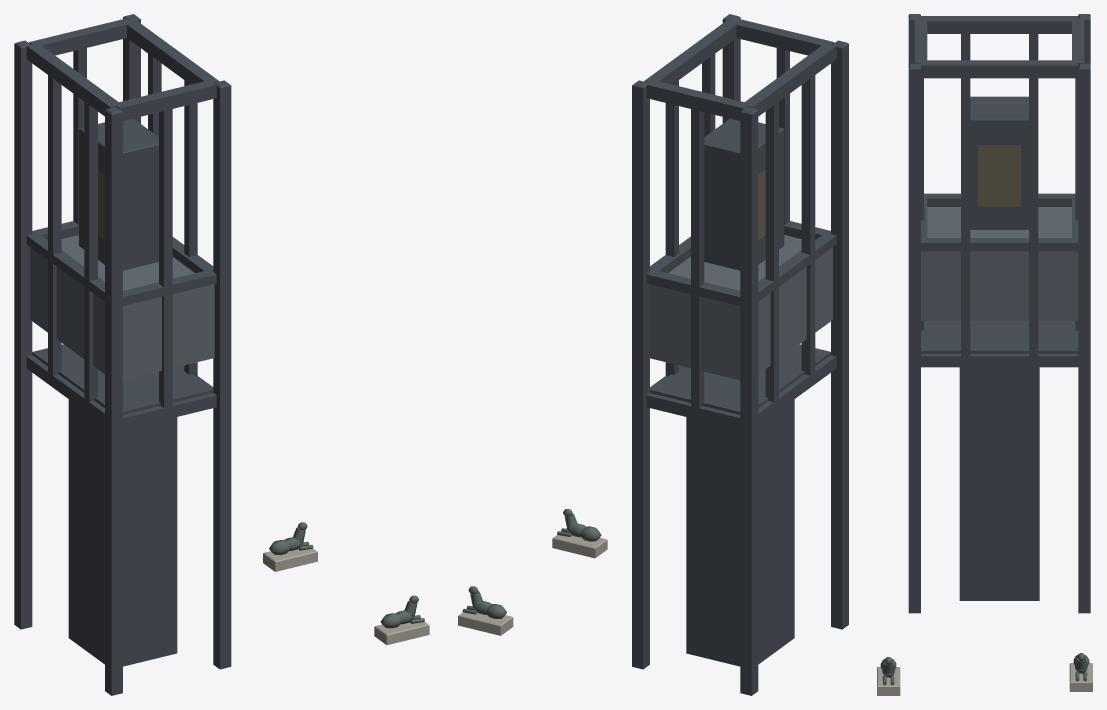
File: dc-netherlands-carillon.glb
The picture shows the model from 3 angles, left to right: view 1: azimuth 30°, elevation 25°; view 2: azimuth 150°, elevation 25°; view 3: azimuth 270°, elevation 25°; orthographic projection. The views are drawn at different scales.
Visible parts, largest first — view 1: Netherlands Carillon; view 2: Netherlands Carillon; view 3: Netherlands Carillon.
Boxes of the visible parts, x1,y1,x2,y2 form: Netherlands Carillon: [14, 14, 429, 695]; Netherlands Carillon: [458, 14, 848, 695]; Netherlands Carillon: [877, 14, 1092, 695].
Bounding box in the file's own units: 21.1 × 39 × 14.
